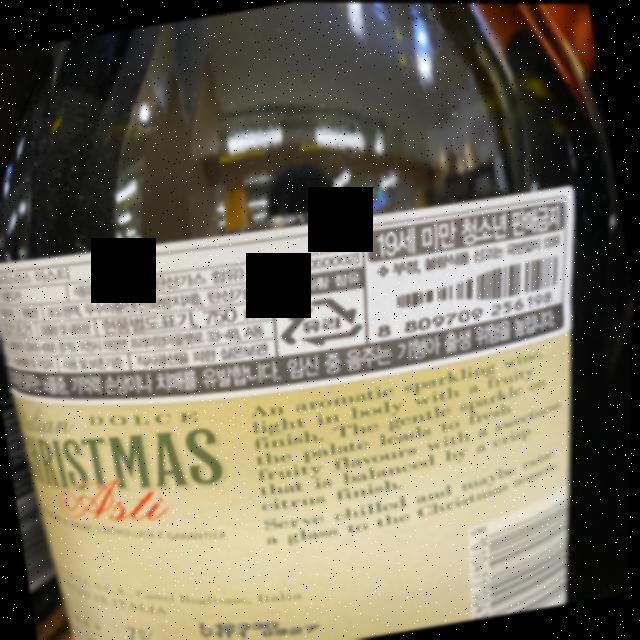Glass: (273, 290, 368, 353)
